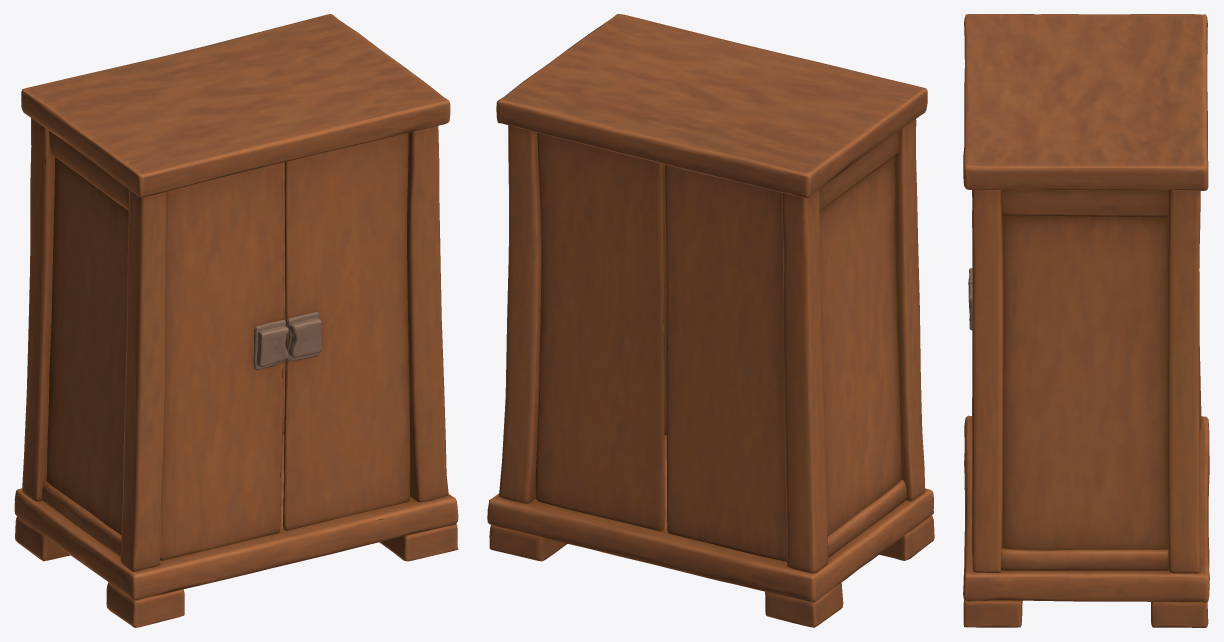
Rendered from sumicio_armario_mapas.glb.
The picture shows the model from 3 angles, left to right: view 1: azimuth 30°, elevation 25°; view 2: azimuth 150°, elevation 25°; view 3: azimuth 270°, elevation 25°; orthographic projection.
Parts seen in each view (by area): view 1: geometry_0; view 2: geometry_0; view 3: geometry_0.
Boxes of the visible parts, x1,y1,x2,y2 form: geometry_0: (14,14,458,627); geometry_0: (487,14,934,627); geometry_0: (963,14,1209,627).
Bounding box in the file's own units: 0.7619 × 1 × 0.4899.
Materials: 1 (1 with a texture image).
